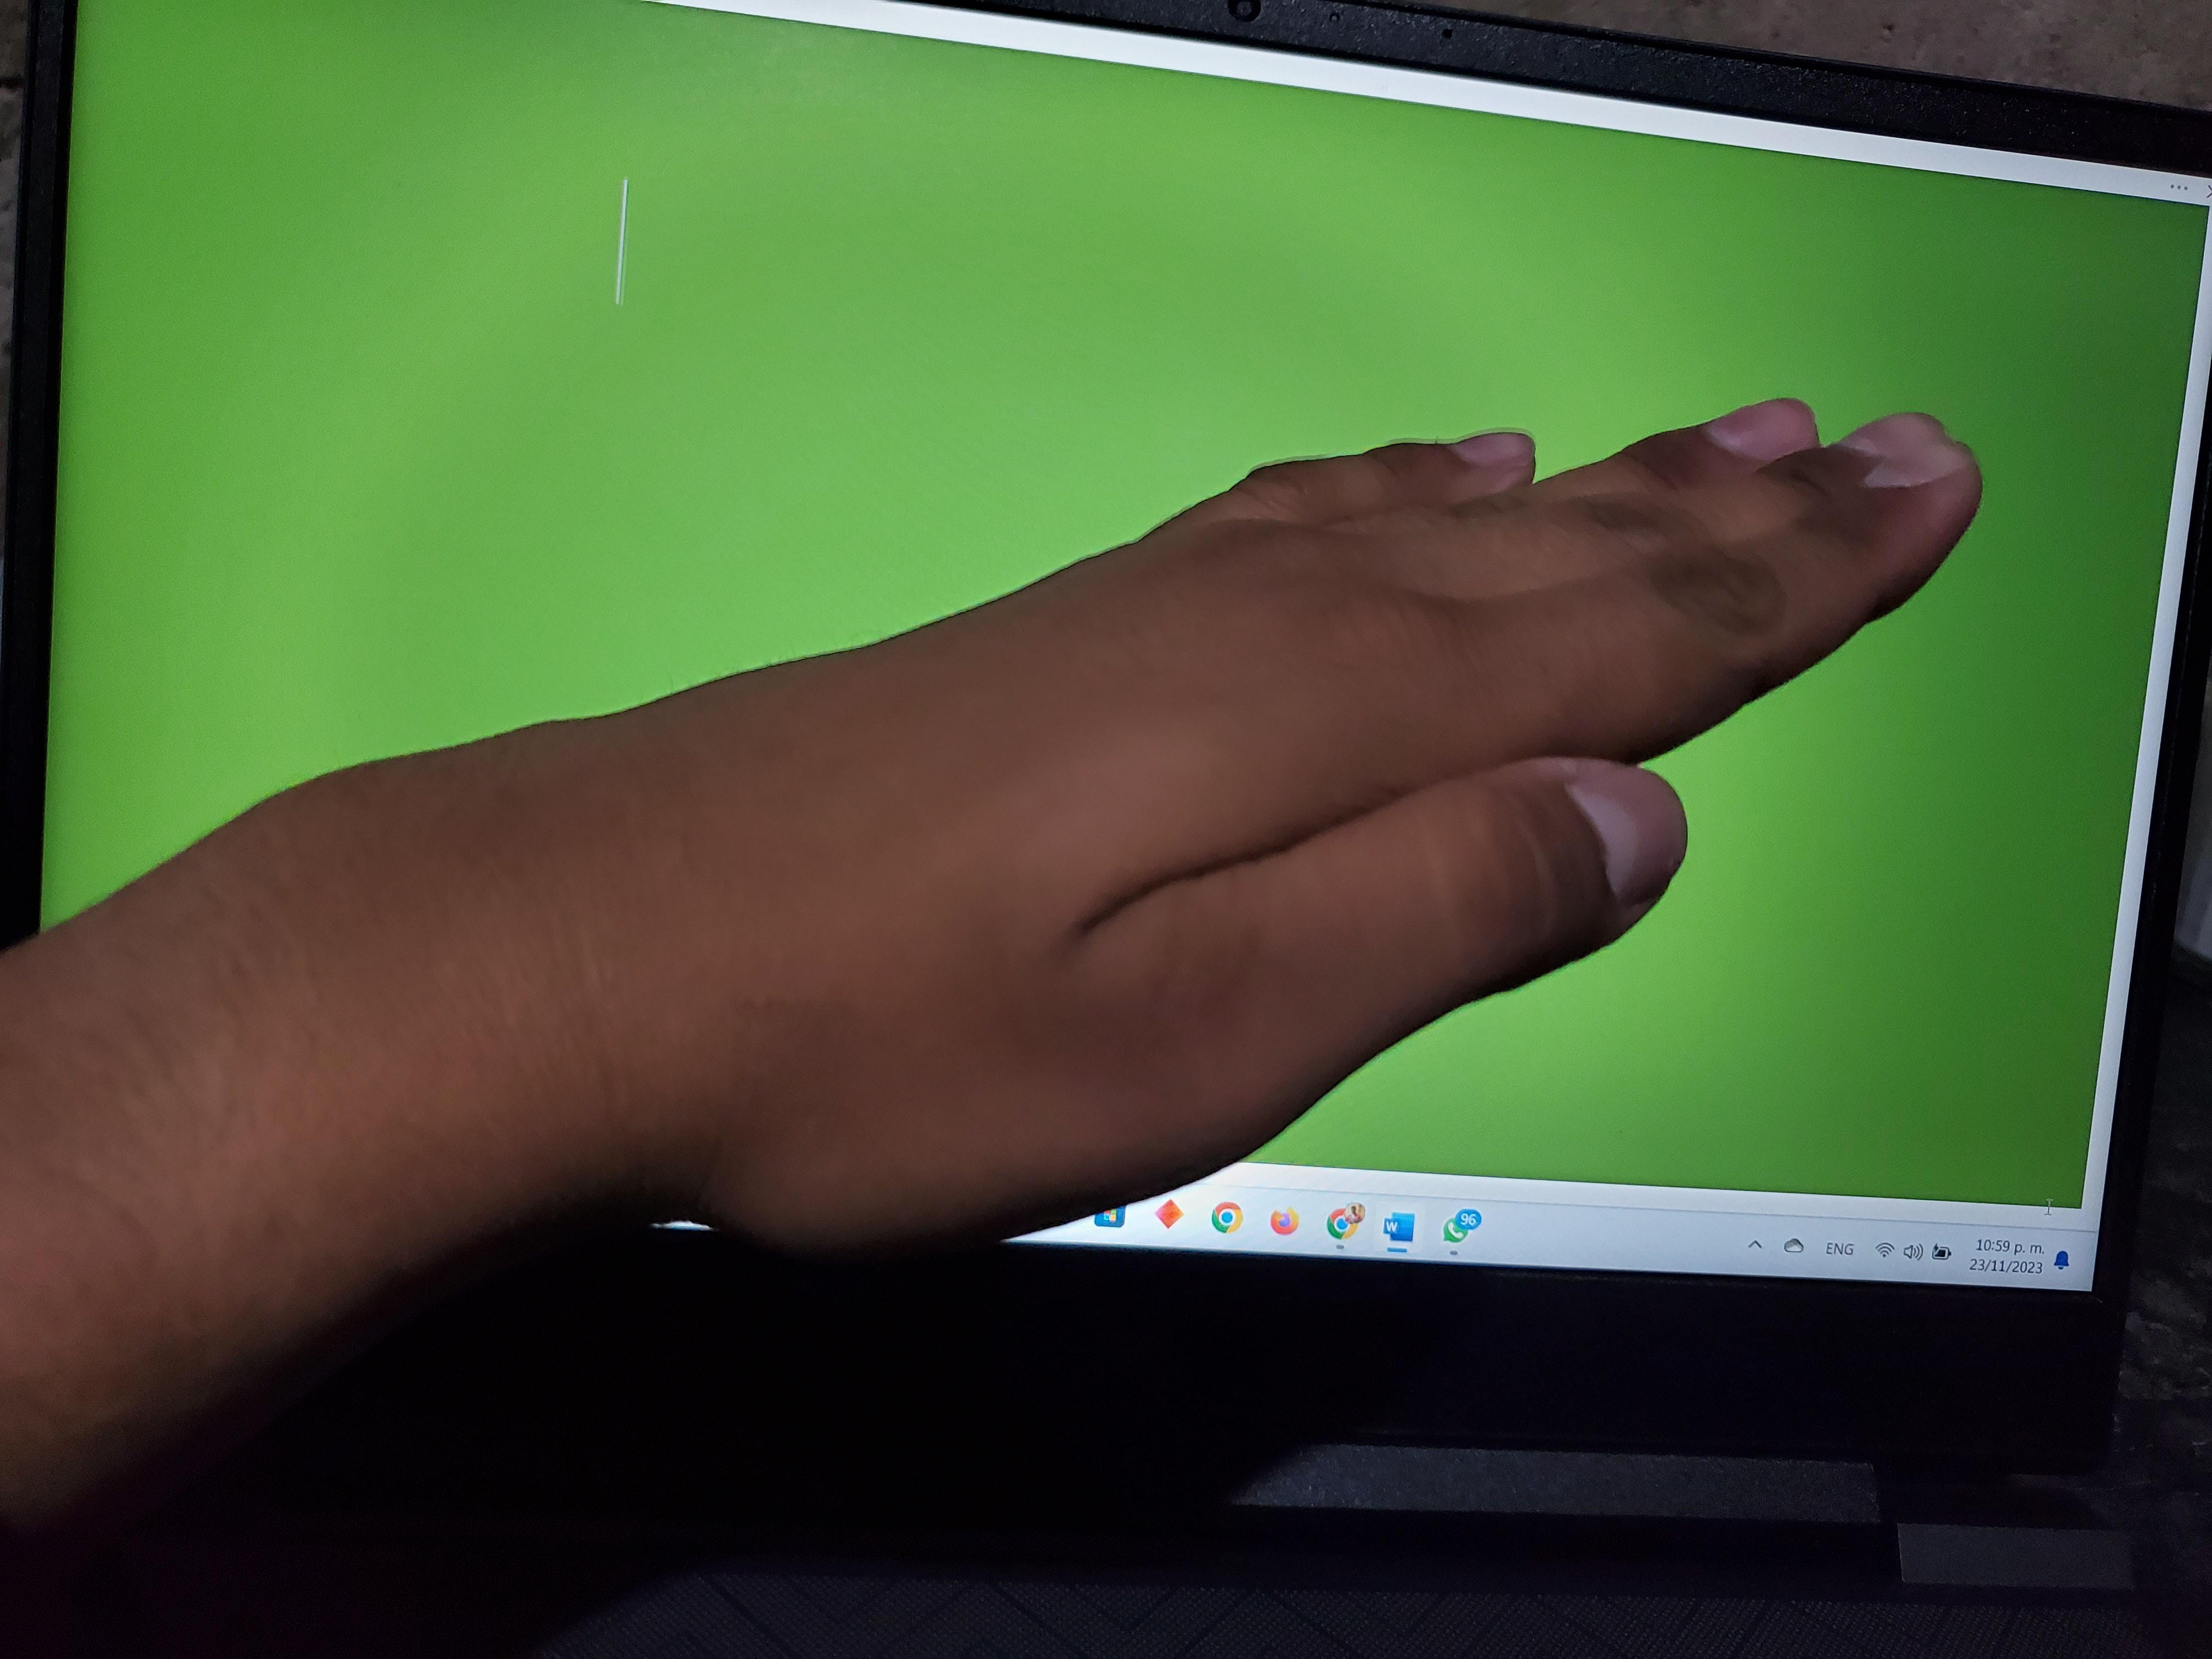Paper: (67, 133, 2081, 1457)
